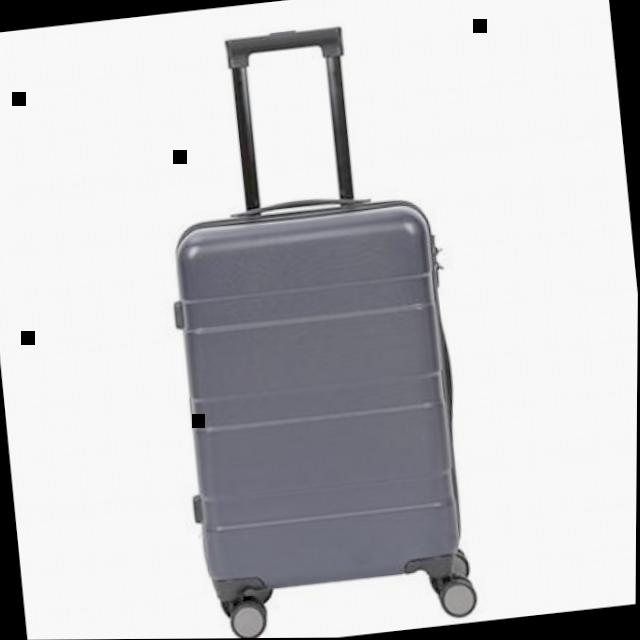luggage: (152, 176, 494, 639)
